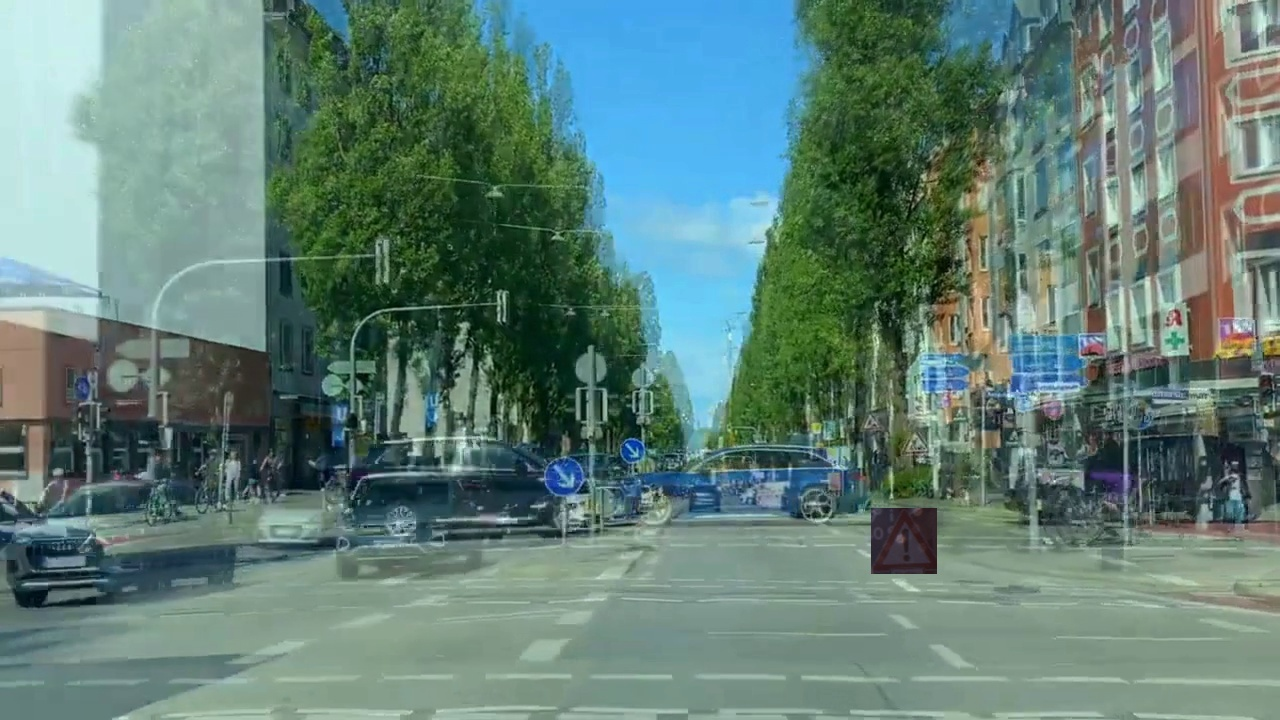Caution: (871, 508, 937, 574)
